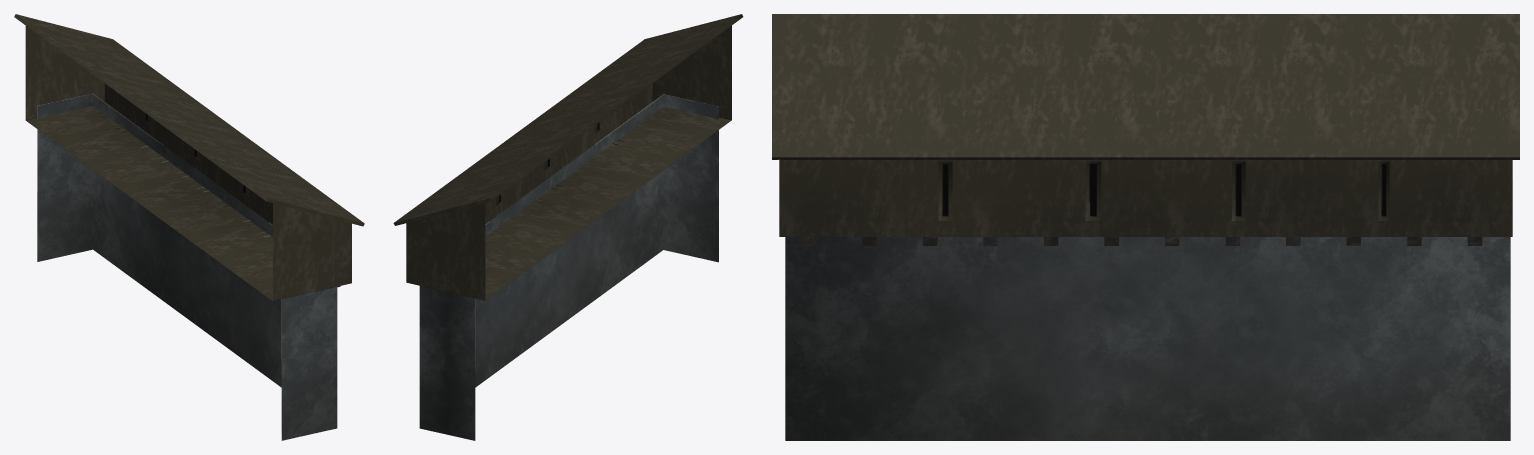
Rendered from castleOuter_wall.glb.
The picture shows the model from 3 angles, left to right: view 1: azimuth 30°, elevation 25°; view 2: azimuth 150°, elevation 25°; view 3: azimuth 270°, elevation 25°; orthographic projection. The views are drawn at different scales.
Parts seen in each view (by area): view 1: wall; view 2: wall; view 3: wall.
Boxes of the visible parts, box(x1,y1,x2,y2) form: wall: box(14, 14, 364, 440); wall: box(393, 14, 743, 440); wall: box(772, 14, 1519, 440).
Bounding box in the file's own units: 6.22 × 15.1 × 27.42.
1 material, 1 textured.
